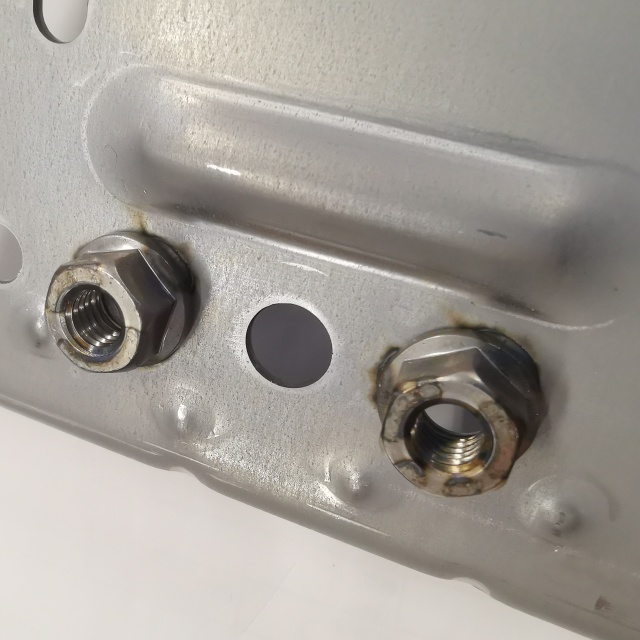dog: (369, 321, 553, 502), (38, 225, 200, 379)
